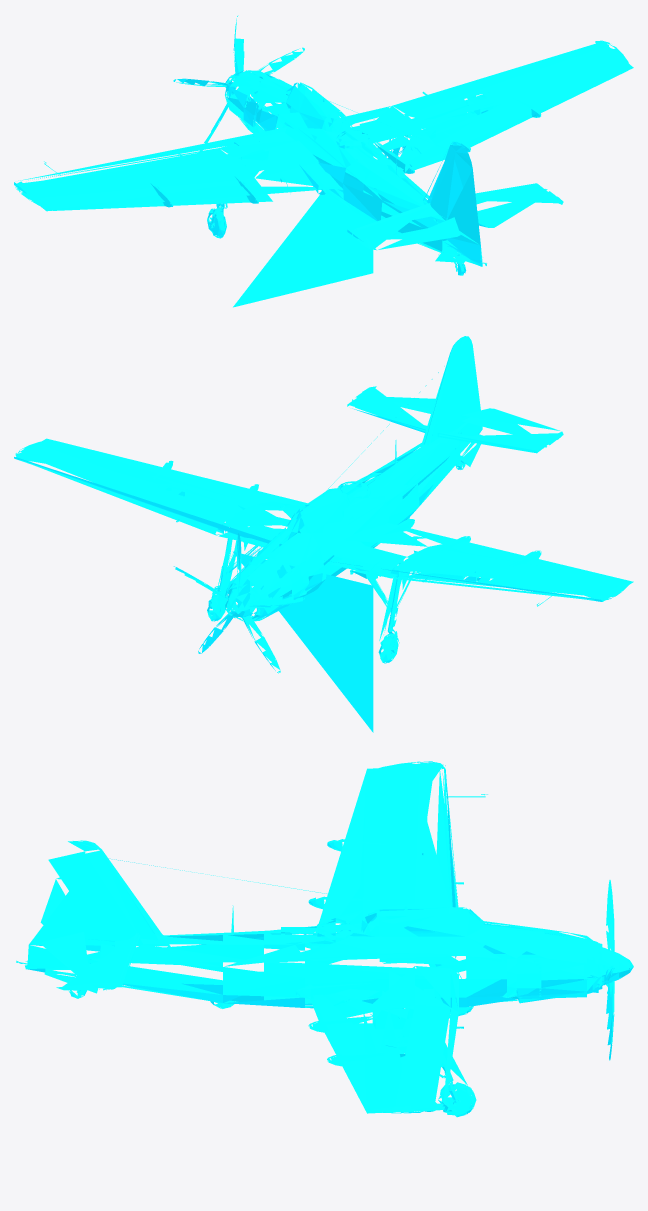
Rendered from PBAB007.glb.
The picture shows the model from 3 angles, top to bottom: view 1: azimuth 30°, elevation 25°; view 2: azimuth 150°, elevation 25°; view 3: azimuth 270°, elevation 25°; orthographic projection. The views are drawn at different scales.
Visible parts, largest first — view 1: misc; view 2: misc; view 3: misc.
Boxes of the visible parts, left/top/right/bottom form: misc: left=14, top=15, right=633, bottom=307; misc: left=14, top=336, right=633, bottom=732; misc: left=16, top=761, right=633, bottom=1117.
Bounding box in the file's own units: 1.22 × 0.5126 × 0.9134.
